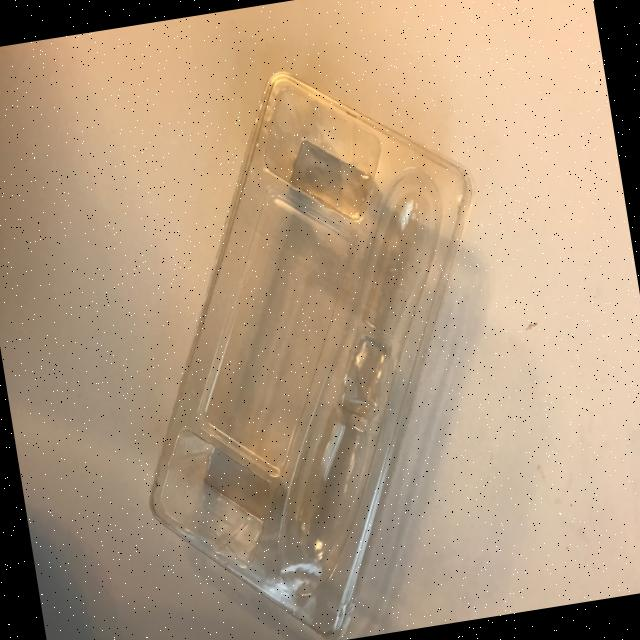plastic: (84, 42, 541, 640)
